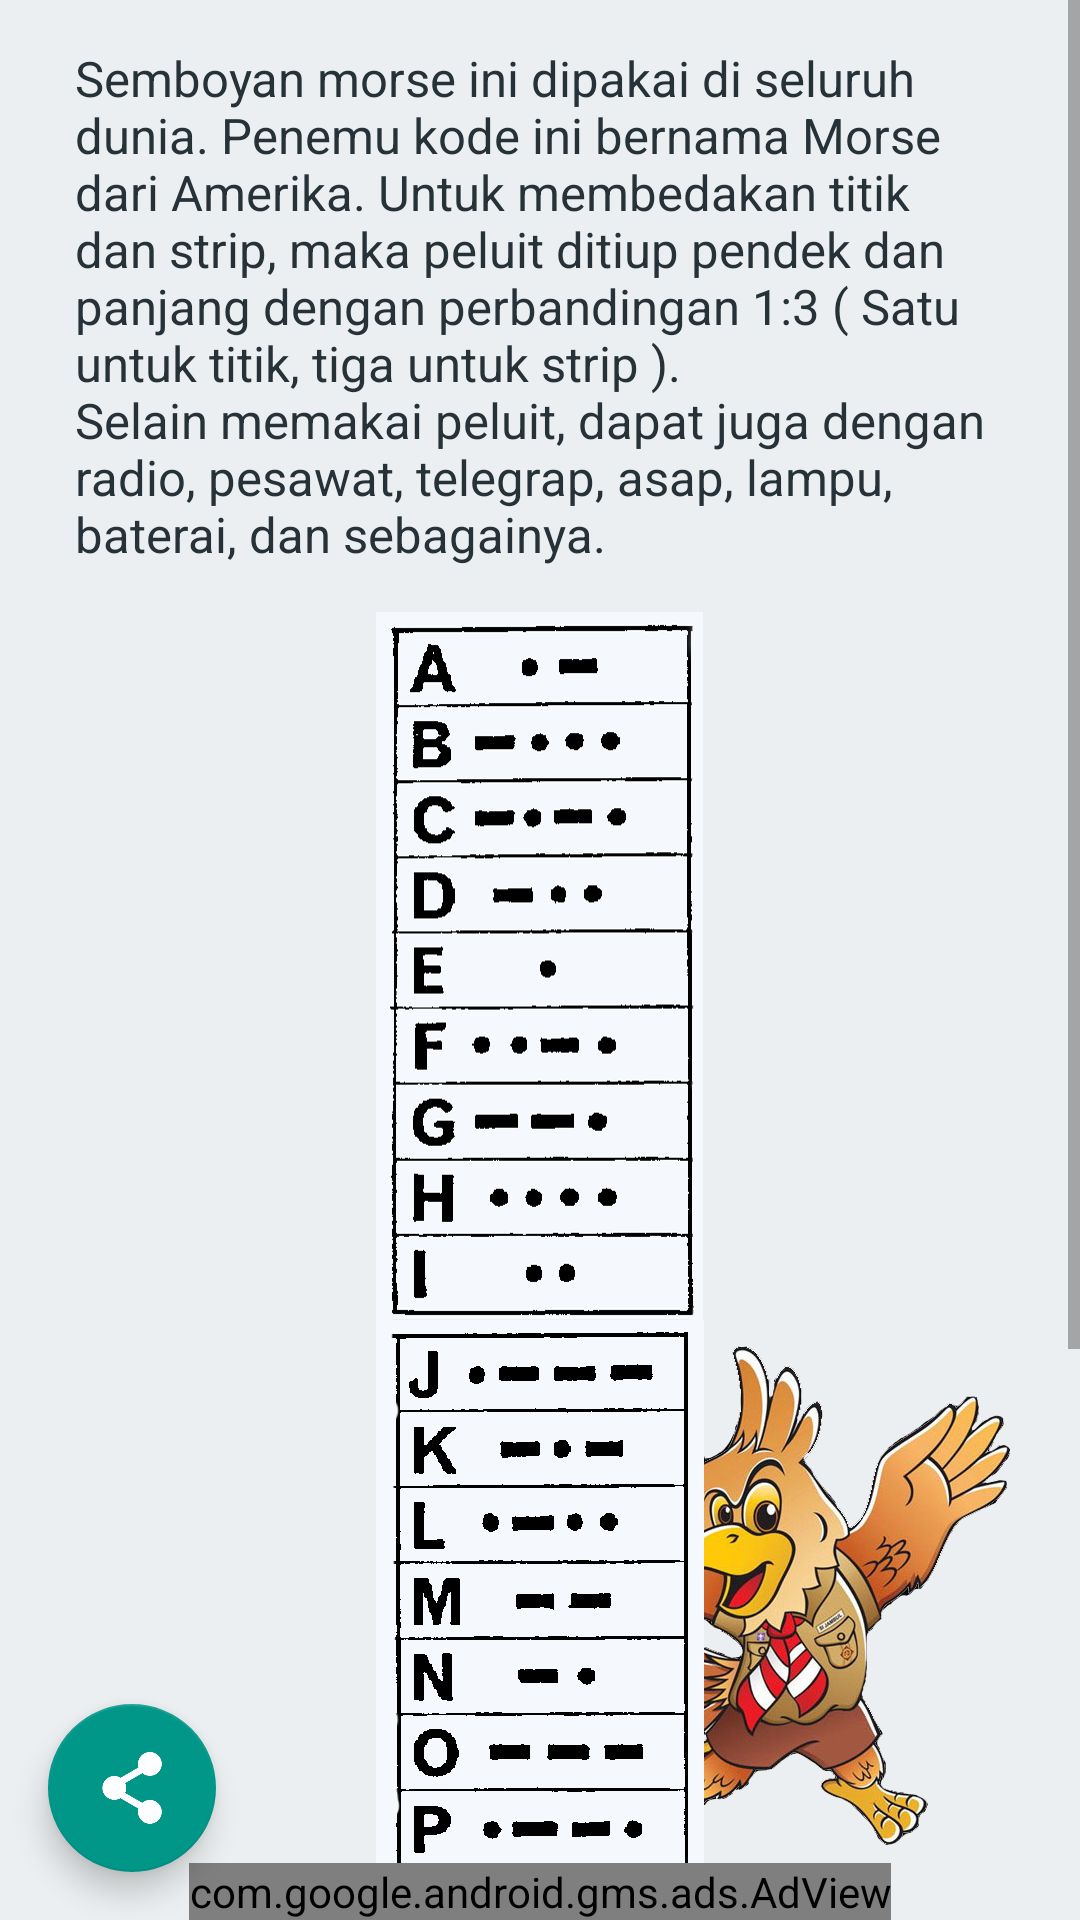

Where icons sit on this 1080px×1920px app screen, as (x1, y1, x2, y2):
share: (48, 1704, 216, 1872)
